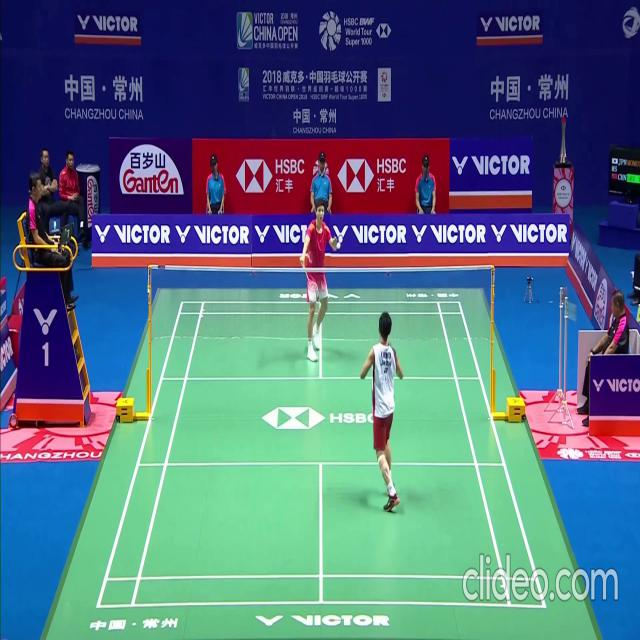Shuttlecock: (336, 240, 341, 247)
